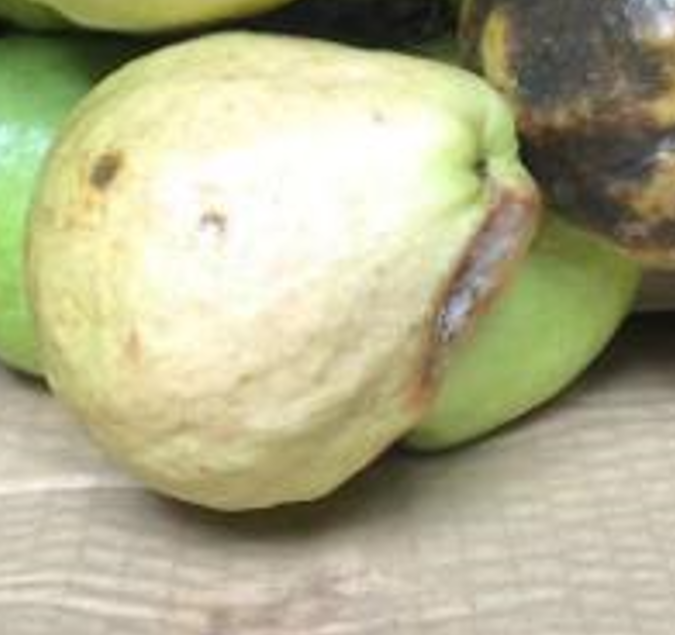guava_B: (19, 28, 549, 513)
